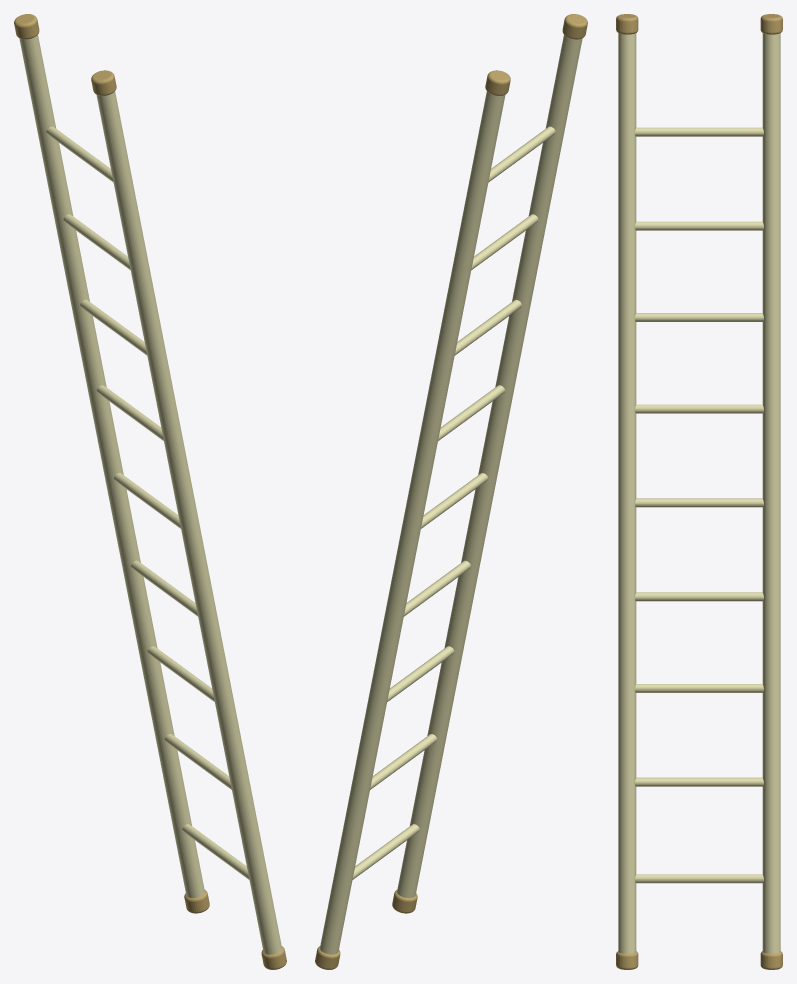
The model's file is bajo.gltf.
3 views of the same model, side by side, from view 1: azimuth 30°, elevation 25°; view 2: azimuth 150°, elevation 25°; view 3: azimuth 270°, elevation 25° (orthographic). The views are drawn at different scales.
Visible parts, largest first — view 1: 1; view 2: 1; view 3: 1.
Boxes of the visible parts, box(x1,y1,x2,y2) form: 1: box(14, 14, 286, 969); 1: box(315, 14, 587, 969); 1: box(616, 14, 782, 969).
Size of the model in its own units: 12.66 by 58.75 by 10.14.
